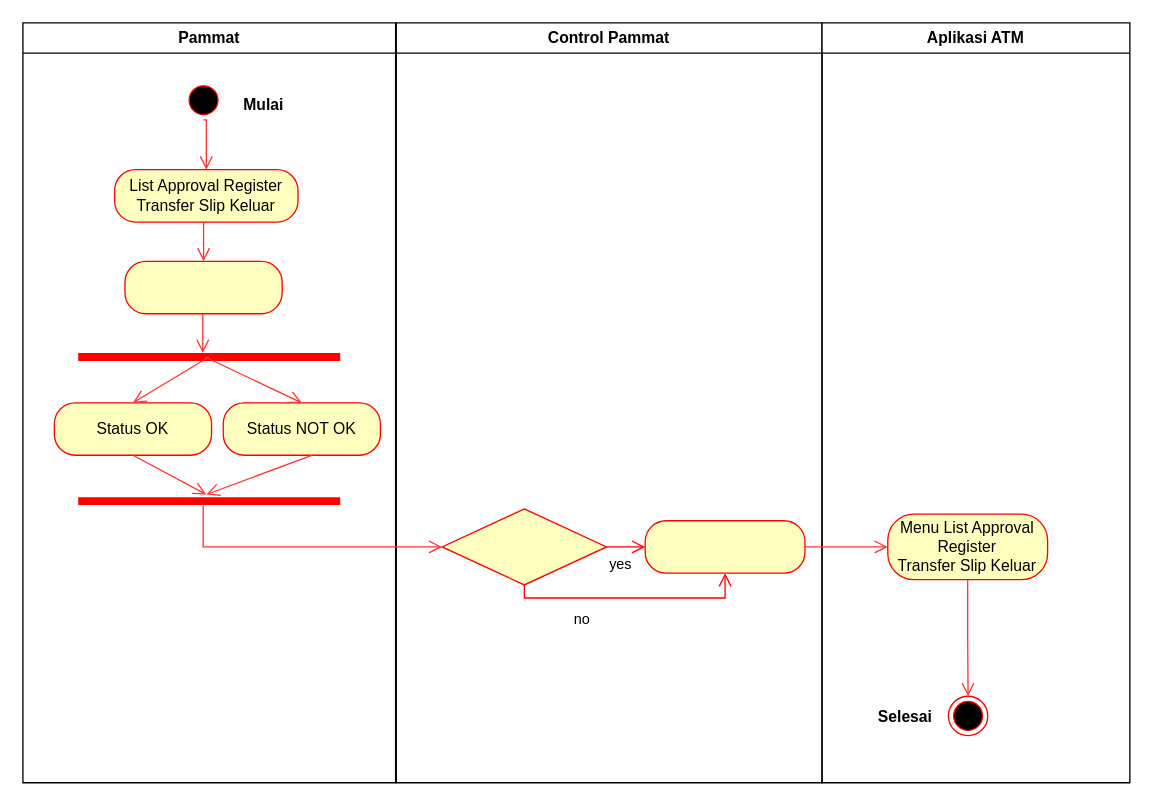
The diagram is 1153 pixels wide and 806 high, and some of its shapes have lost their labels. The centre of each missing label's shape, as x and y in pixels:
action: (x=524, y=546)
Notif ke Pamfik: (x=724, y=546)
Pilih Order: (x=203, y=287)
